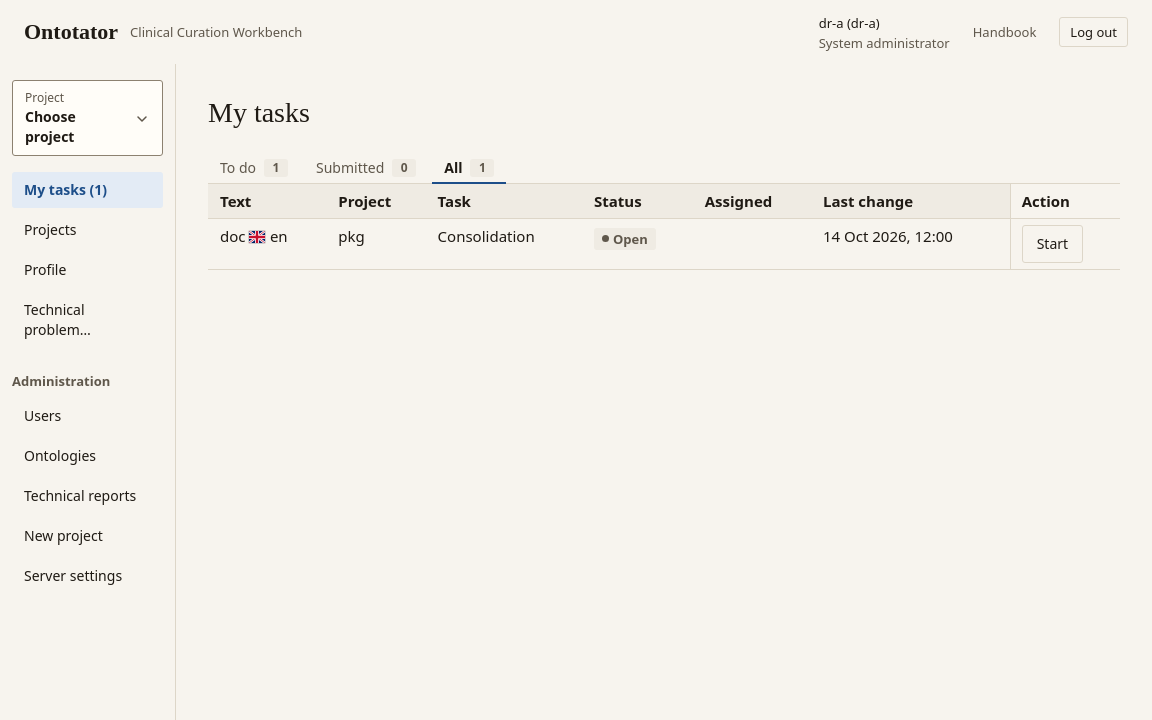
Test: A1/A7: dashboard blinding, identity and persistence › opens a zero-proposal case for a review-only role without constructing fresh targets
Click the link "Start" at (1052, 244), box [1022,225,1083,263]
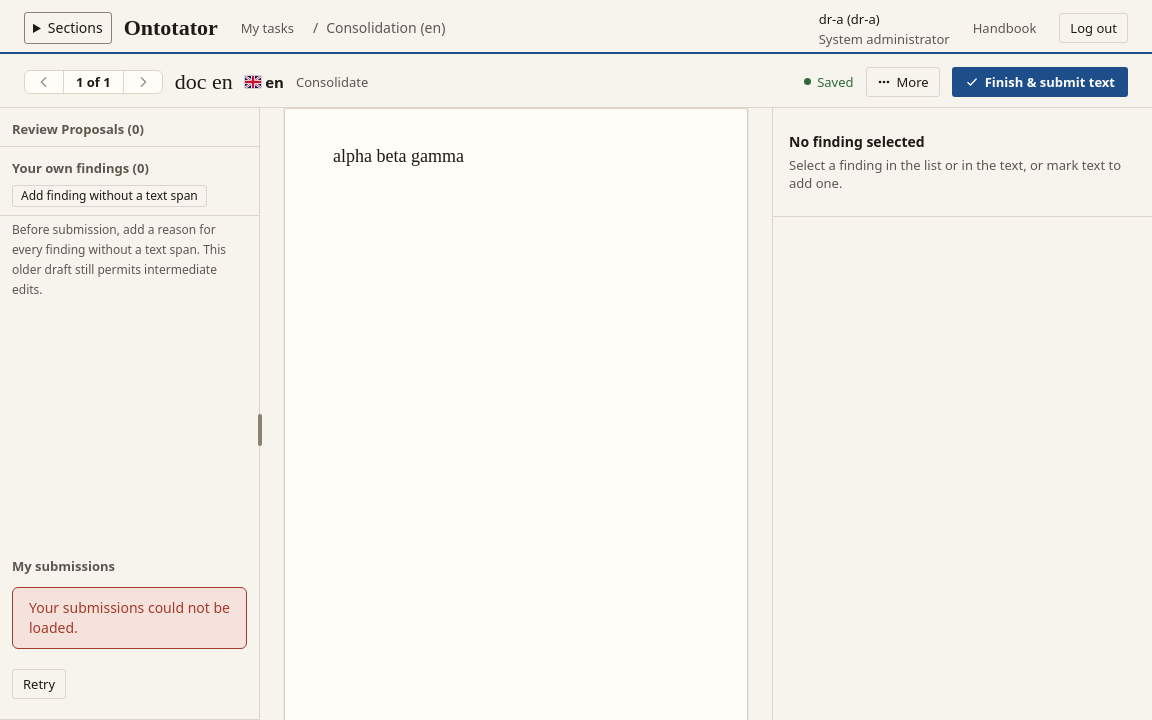
Check: the button "Finish & submit text" is shown, box [952,66,1128,96]
